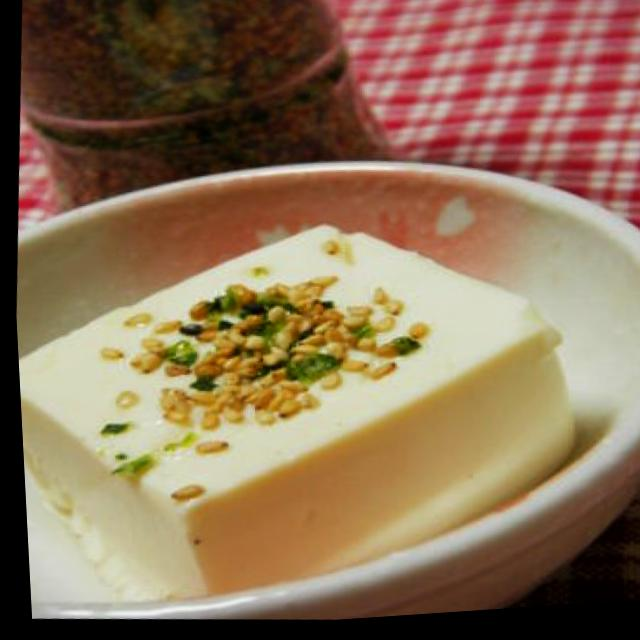豆腐料理: (9, 185, 603, 636)
